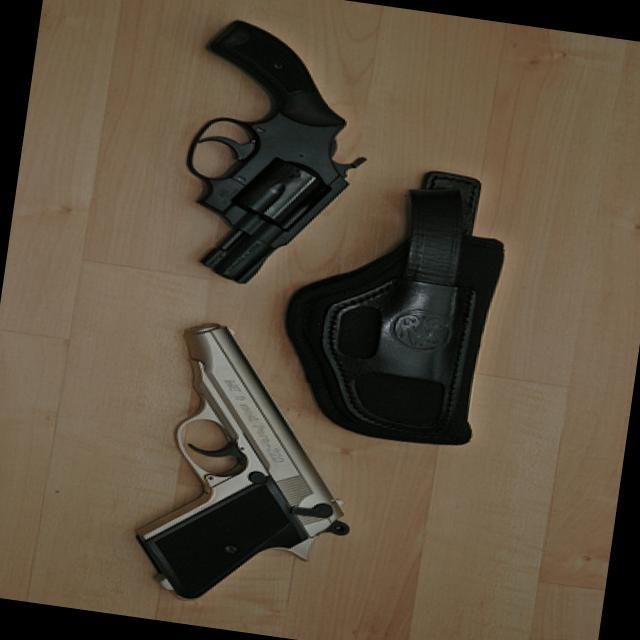handgun: (130, 316, 378, 616), (175, 9, 389, 301)
